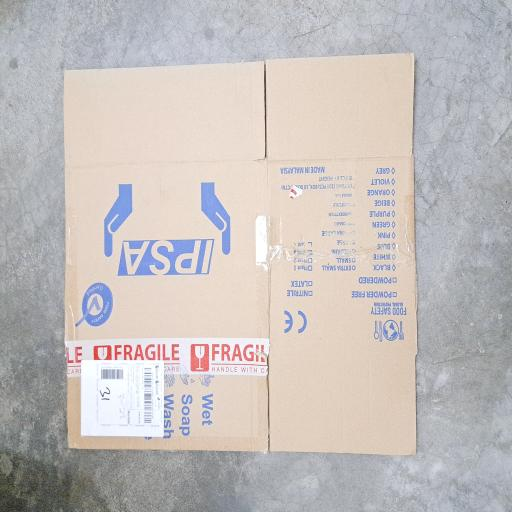cardboard: (44, 87, 347, 512)
